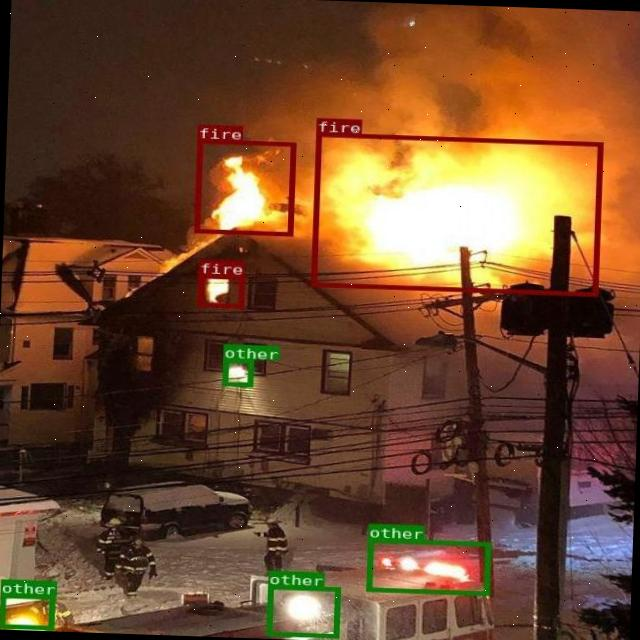fire: (310, 132, 602, 294), (193, 139, 294, 235), (196, 272, 244, 308)
